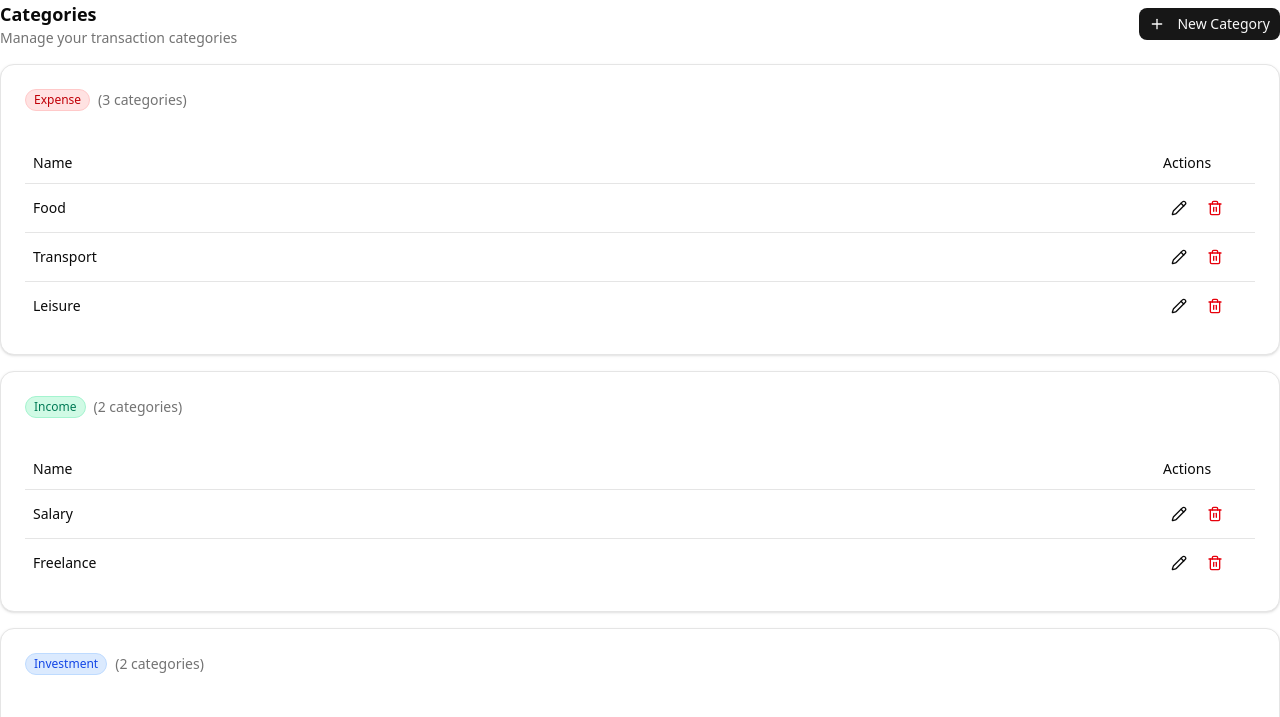
Scenario: CategoryManager › opens "New Category" dialog when button is clicked
The image size is (1280, 717).
Click the button "New Category" at (1210, 24), box [1139,8,1279,40]
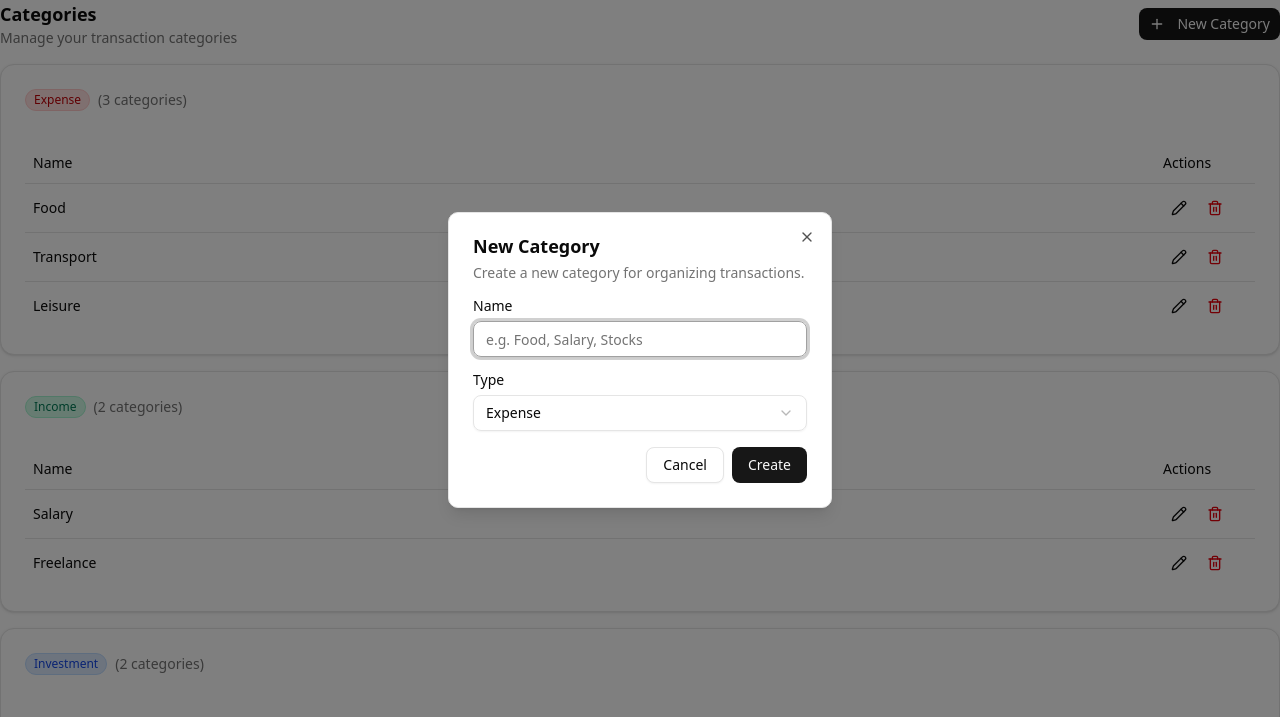
Expected: the heading "New Category" is shown, [473,234,600,258]
Expected: the field labelled "Name" is shown, [473,321,807,357]
Expected: the dropdown named "Type" is shown, [473,395,807,431]
